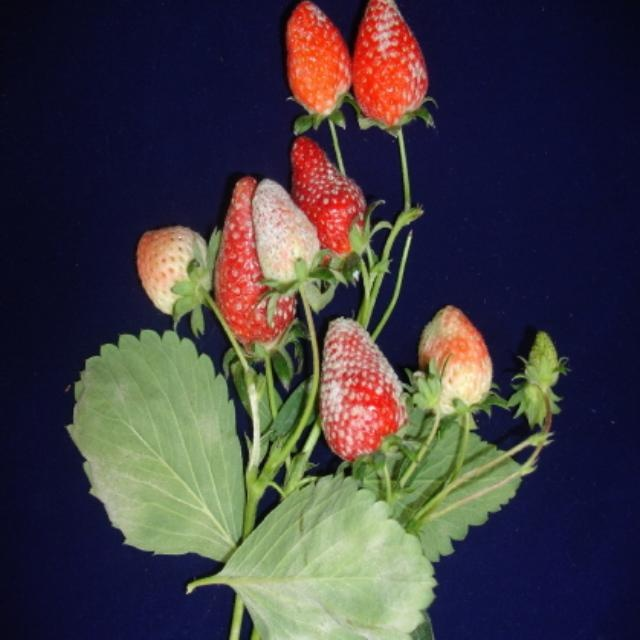Powdery Mildew Fruit: (213, 176, 296, 360), (319, 317, 408, 470), (291, 134, 369, 278), (350, 2, 429, 131), (251, 178, 321, 297), (285, 2, 351, 119)
